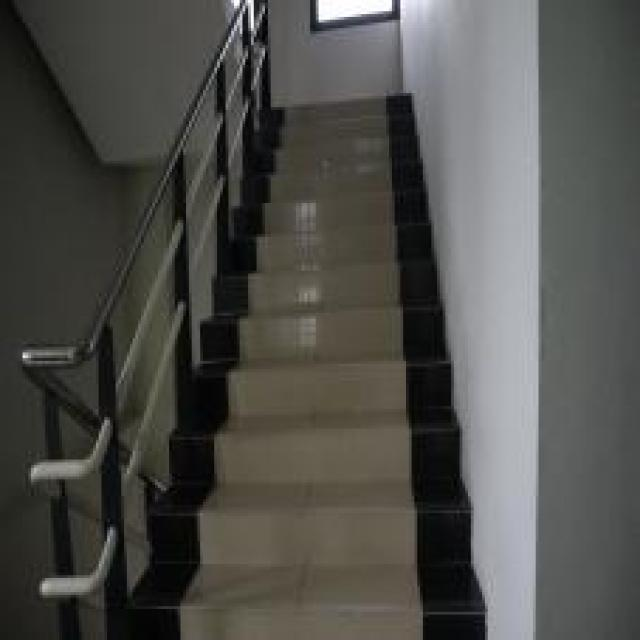upstair: (196, 142, 449, 638)
